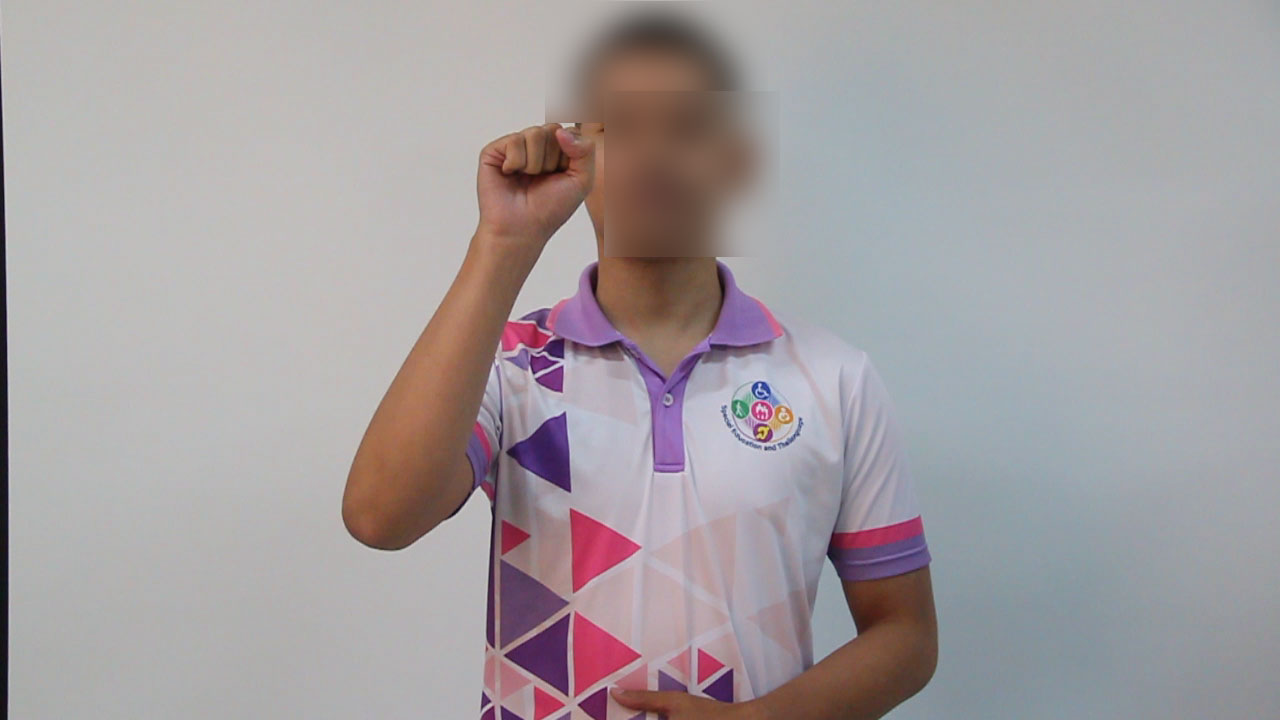sor: (459, 107, 601, 254)
